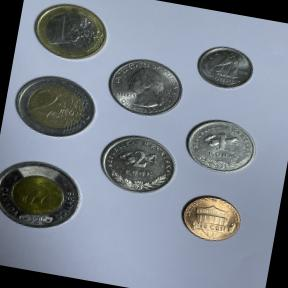1 Euro: (24, 0, 114, 67)
2 Euro: (6, 68, 103, 144)
Canda-10cent-: (192, 39, 262, 94)
Canda-2Dollar-: (0, 151, 90, 238)
Croatia-2Kune-: (89, 128, 182, 202)
US-1cent-: (173, 188, 248, 248)
US-25cent-: (100, 52, 191, 123)
